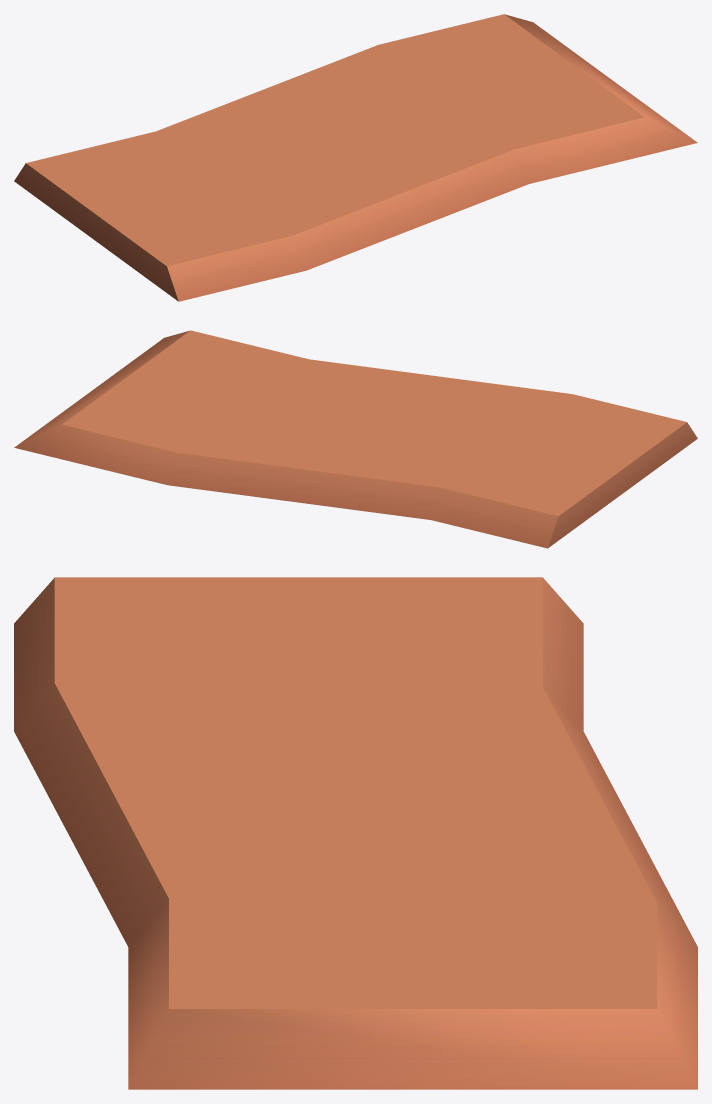
Rendered from kenney-hexagon-path-end.glb.
3 renders of one model, top to bottom at view 1: azimuth 30°, elevation 25°; view 2: azimuth 150°, elevation 25°; view 3: azimuth 270°, elevation 25°, orthographic. The views are drawn at different scales.
Visible parts, largest first — view 1: path_end; view 2: path_end; view 3: path_end.
Boxes of the visible parts, box(x1,y1,x2,y2) form: path_end: box(14, 14, 697, 301); path_end: box(14, 330, 697, 548); path_end: box(14, 577, 697, 1089).
Size of the model in its own units: 0.54 by 0.025 by 0.335.
Materials: 1 (1 with a texture image).
